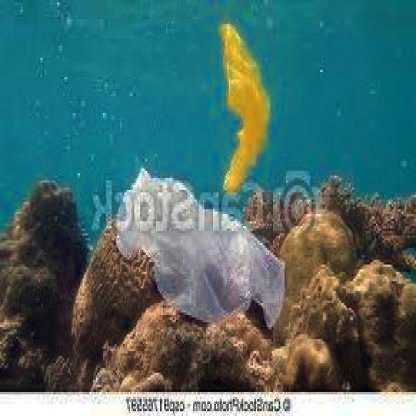pbag: (114, 166, 286, 339), (217, 22, 272, 195)
